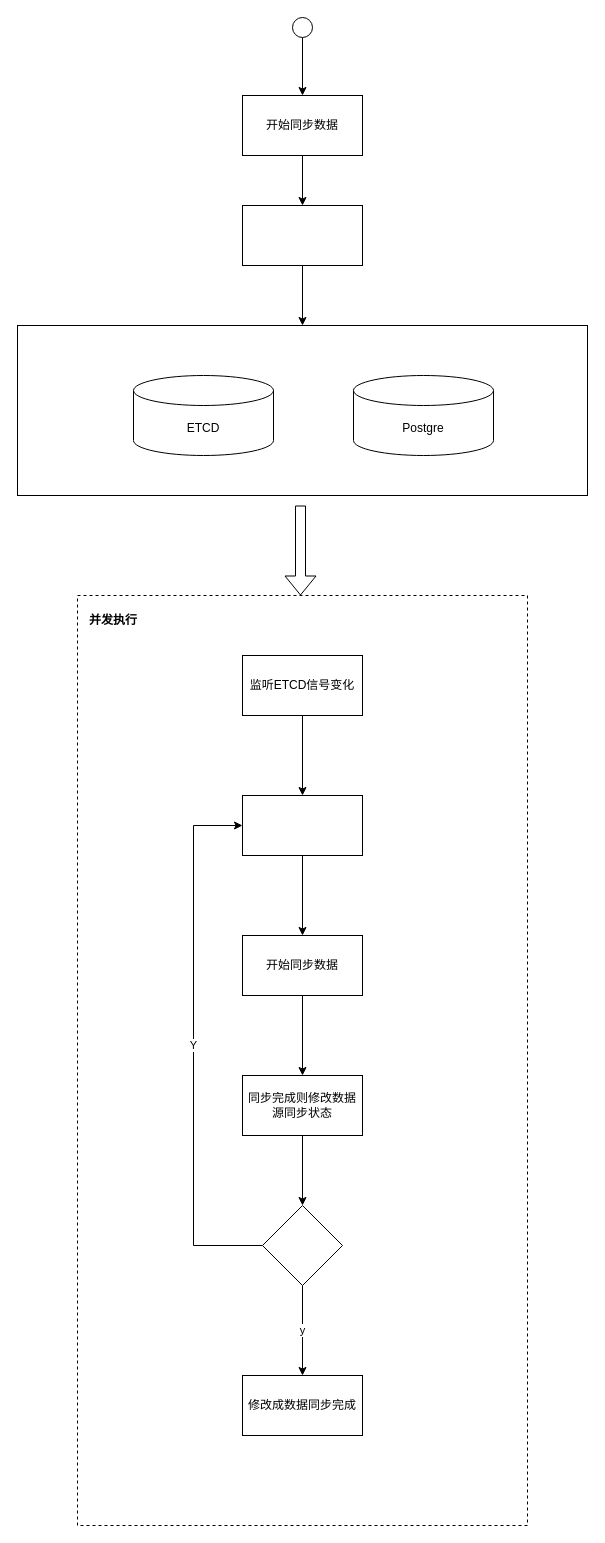
Image size: 605x1543. Some labels were removed from this diagram. Here are the shapes that lost their labels. From the top down, the centre of each, then its label:
At [302,235]: "修改数据库状态并修改ETCD状态".
At [302,825]: "通过ETCD抢占 同步数据源".
At [302,1245]: "是否还有未同步的表".
